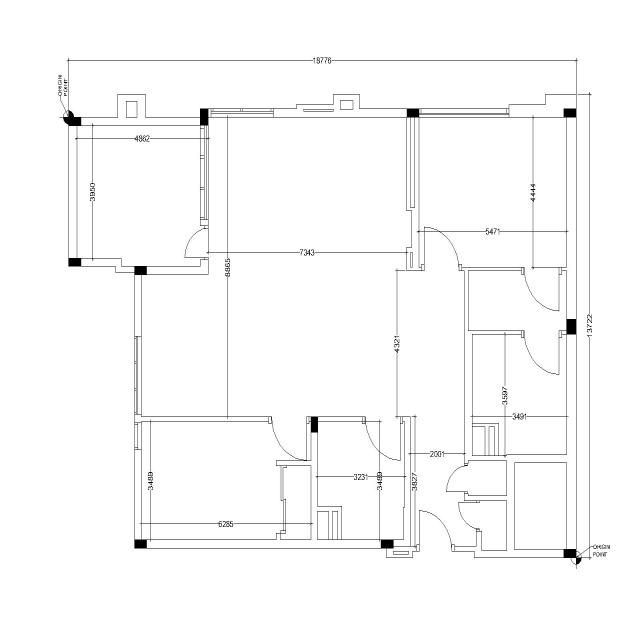Column: (566, 319, 576, 335), (200, 108, 208, 125), (134, 266, 147, 275), (68, 258, 82, 266), (564, 109, 576, 118), (564, 549, 576, 558), (69, 117, 81, 126), (407, 109, 419, 118), (311, 417, 318, 432), (381, 540, 394, 548), (134, 540, 147, 548)
Door: (416, 225, 466, 274), (520, 329, 563, 376), (267, 416, 310, 462), (520, 266, 562, 313), (362, 416, 403, 462), (416, 509, 456, 553), (184, 223, 209, 263), (446, 462, 470, 495), (458, 500, 482, 532)
Sliding Door: (280, 465, 288, 534)
Window: (418, 107, 510, 119), (199, 124, 209, 222), (210, 107, 275, 119), (134, 335, 142, 415), (133, 421, 143, 452)
